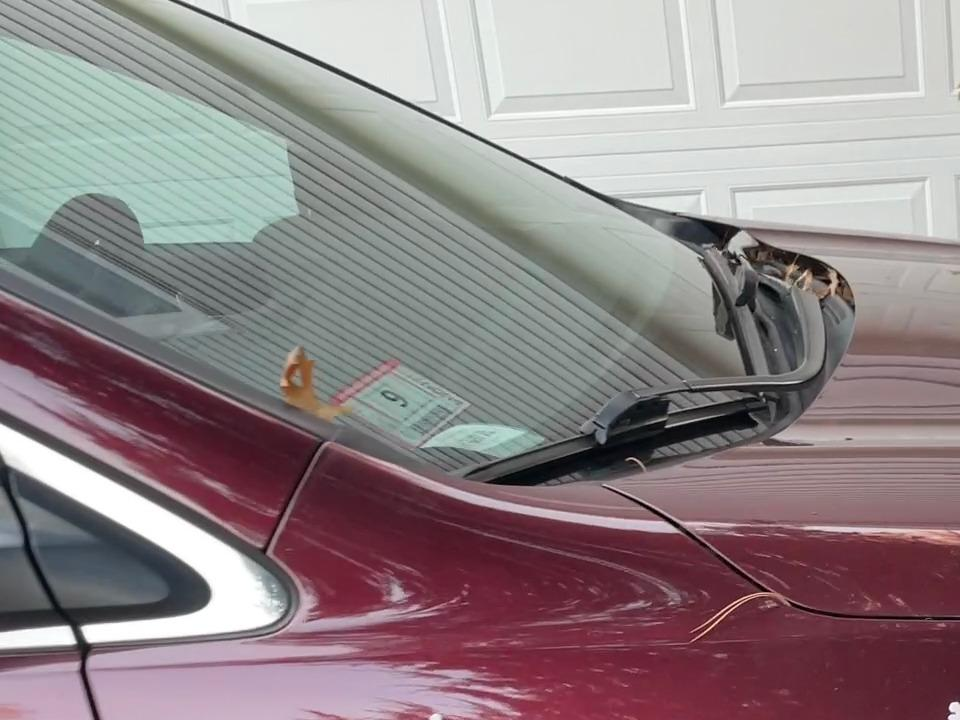dent: (381, 704, 479, 720), (921, 684, 960, 720)
